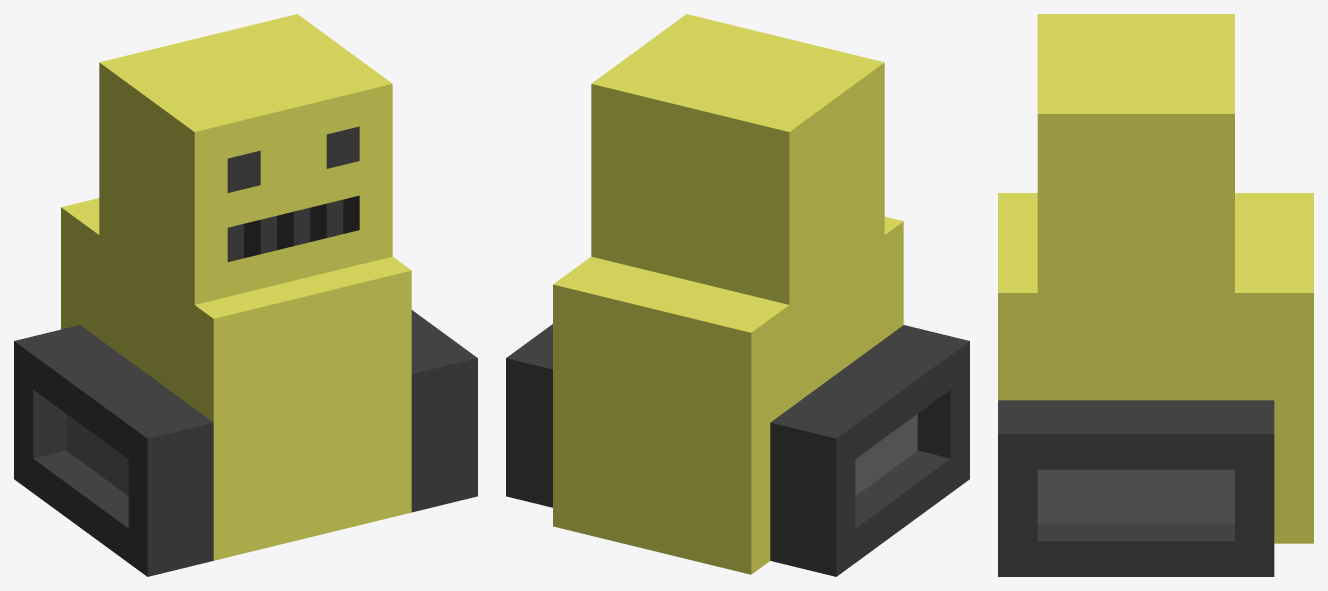
File: tracked robot armless.obj
3 renders of one model, left to right at view 1: azimuth 30°, elevation 25°; view 2: azimuth 150°, elevation 25°; view 3: azimuth 270°, elevation 25°, orthographic. The views are drawn at different scales.
Size of the model in its own units: 20 by 24 by 16.
1 material, 1 textured.
